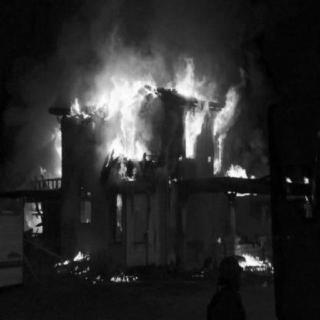Fire: (58, 39, 260, 172)
